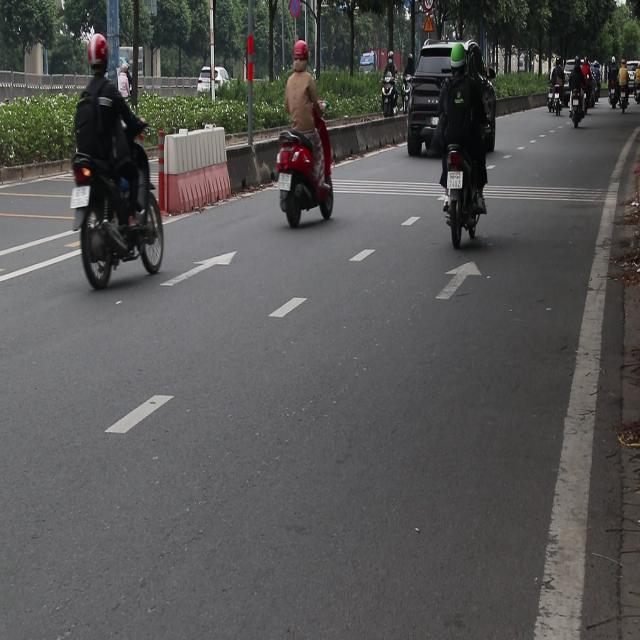car: (408, 42, 470, 156), (562, 48, 594, 101), (198, 66, 232, 93)
motorbike: (65, 147, 173, 279), (434, 154, 499, 253), (274, 127, 335, 228), (373, 72, 400, 128), (570, 85, 586, 128), (604, 71, 619, 116), (547, 84, 562, 116), (619, 79, 627, 117)
truck: (115, 34, 151, 90)
